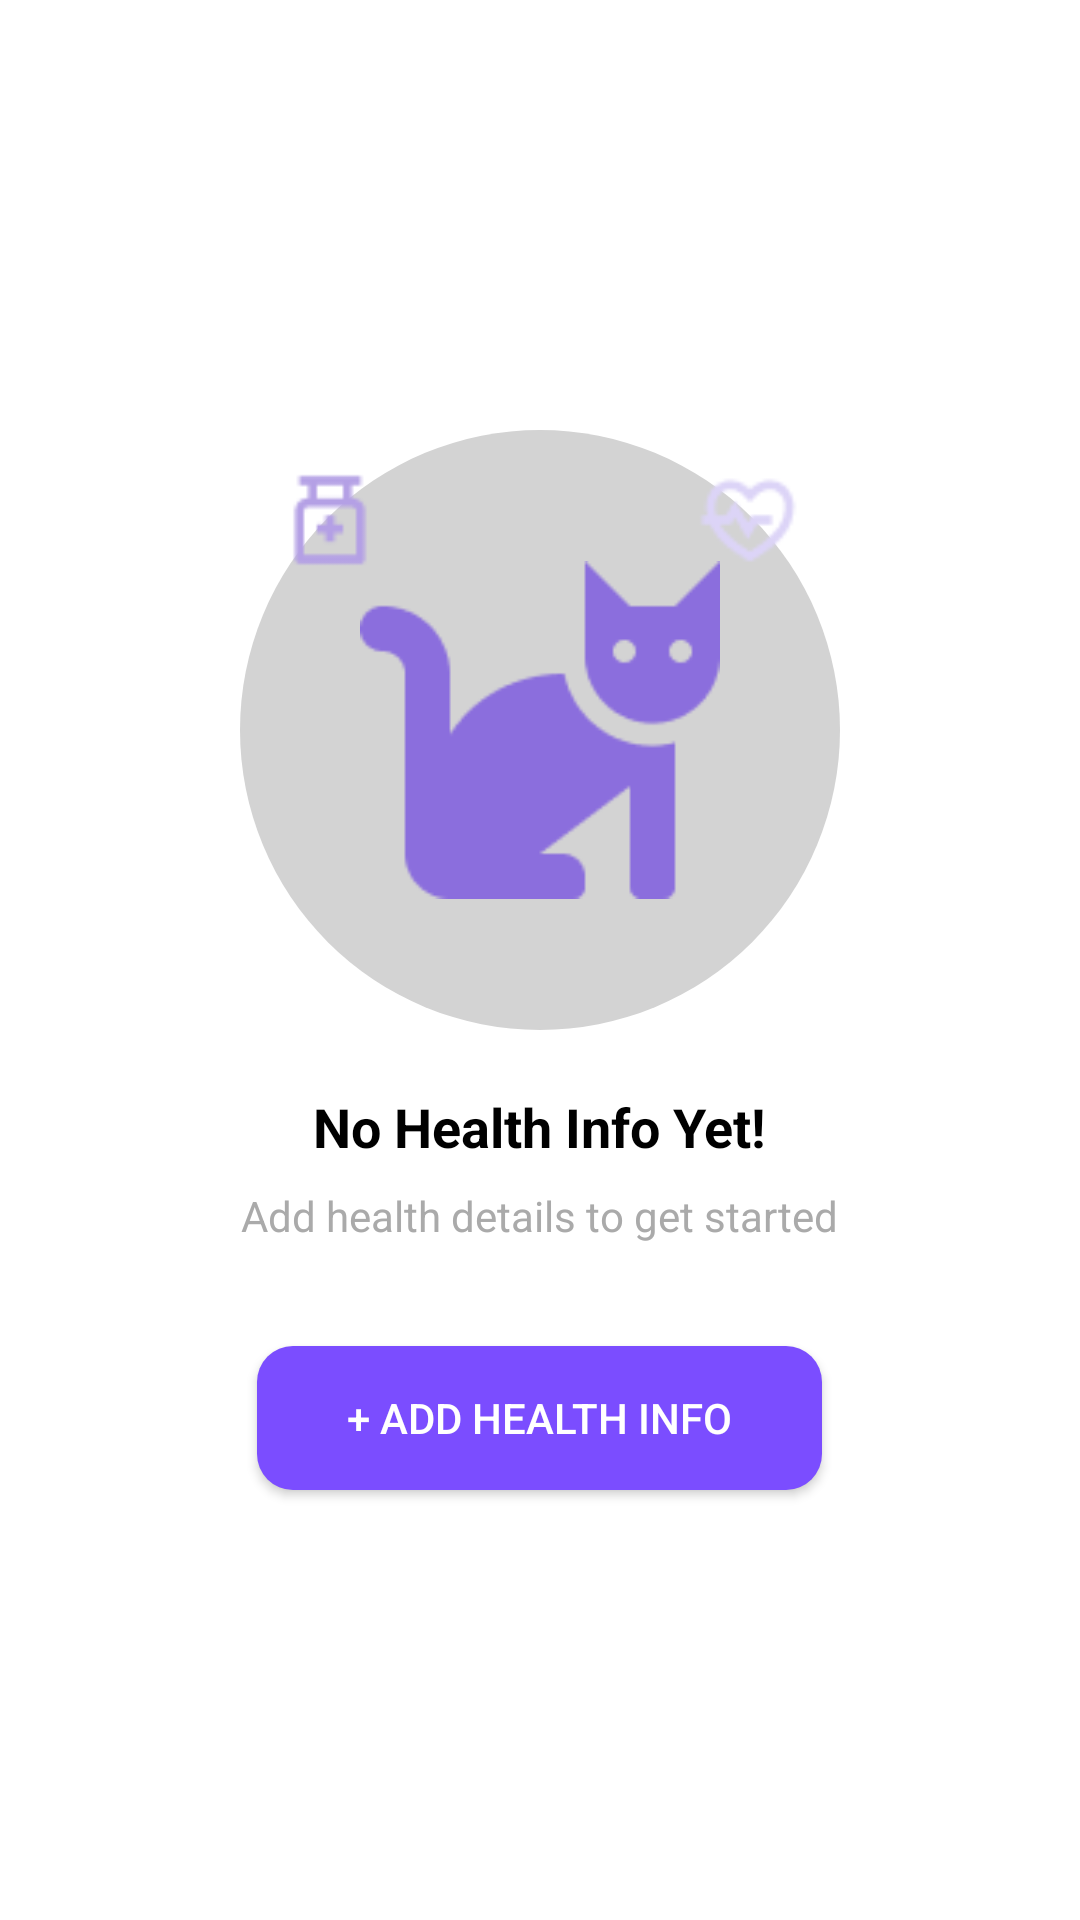

Icon click points for this 1080x1920 phone screenshot, format (x,y):
Bottle Icon: (330,520)
Heart Icon: (750,520)
